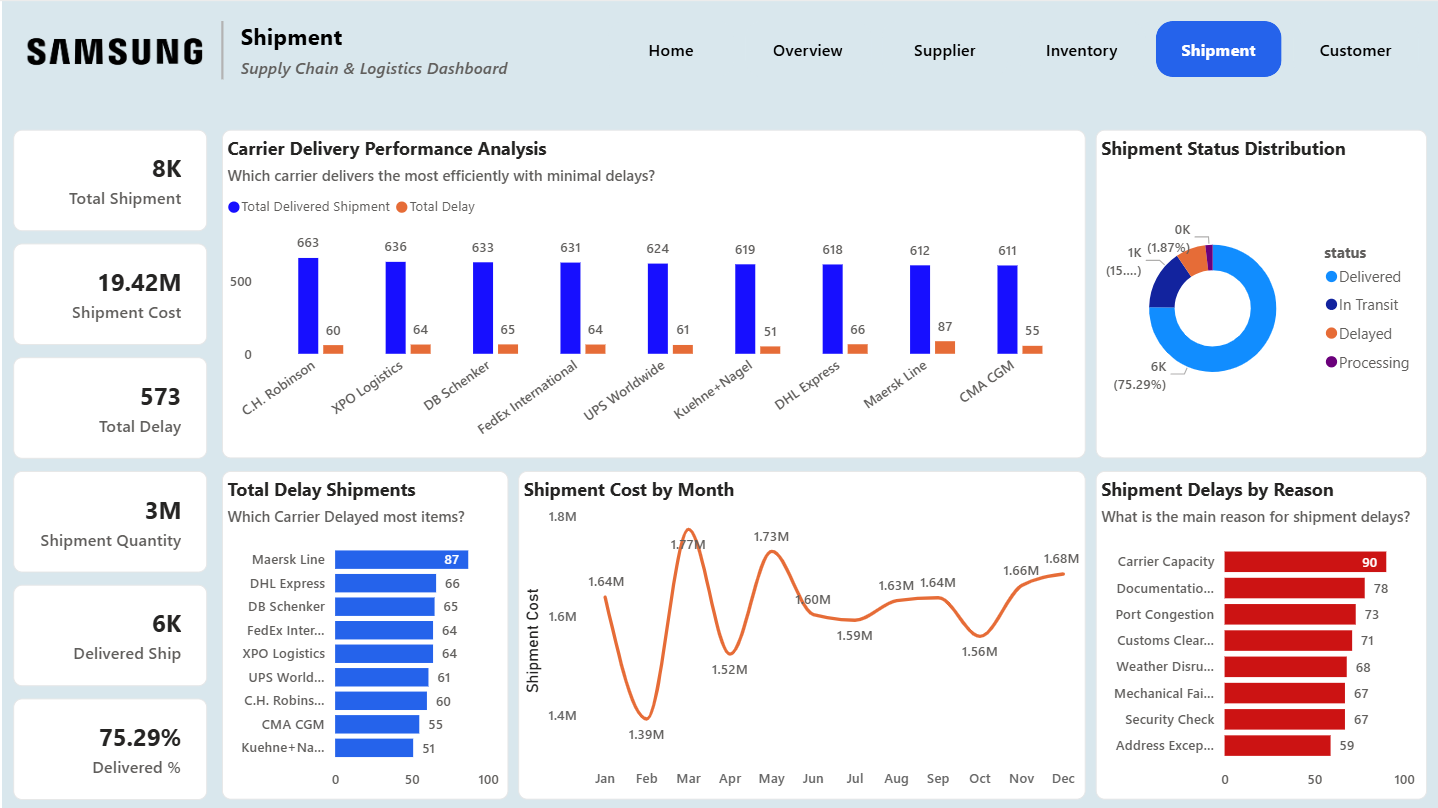

This screenshot's page, from the dashboard's own definition file:
{"tool":"powerbi","page":{"name":"Shipment","canvas":[1280,720],"ordinal":4},"visuals":[{"type":"shape","title":"Shipment","box":[212.5,17.5,240,52.5],"z":0},{"type":"shape","box":[182.1,17.9,27.4,52.4],"z":1000},{"type":"image","box":[9.5,17.9,173.8,53.6],"z":2000},{"type":"cardVisual","fields":{"Data":["_Measures.Total Shipment Cost"]},"box":[10,216.2,172.5,90],"z":3000},{"type":"cardVisual","fields":{"Data":["_Measures.Total Delay"]},"box":[10,317.5,172.5,90],"z":4000},{"type":"cardVisual","fields":{"Data":["_Measures.Total Shipment Quantity"]},"box":[10,418.8,172.5,90],"z":5000},{"type":"cardVisual","fields":{"Data":["_Measures.Total Delivered Shipment"]},"box":[10,520,172.5,90],"z":6000},{"type":"cardVisual","fields":{"Data":["_Measures.Delivered %"]},"box":[10,621.2,172.5,90],"z":7000},{"type":"cardVisual","fields":{"Data":["_Measures.Total Shipment"]},"box":[10,115,172.5,90],"z":8000},{"type":"clusteredBarChart","title":"Total Delay Shipments","fields":{"Category":["fact_shipment.carrier"],"Y":["_Measures.Total Delay"]},"box":[196.6,418.3,255.3,292.4],"z":9000},{"type":"clusteredColumnChart","title":"Carrier Delivery Performance Analysis","fields":{"Category":["fact_shipment.carrier"],"Y":["_Measures.Total Delivered Shipment","_Measures.Total Delay"]},"box":[196.6,115.1,769.4,292.4],"z":10000},{"type":"lineChart","title":"Shipment Cost by Month","fields":{"Category":["dim_date.Month_Short"],"Y":["_Measures.Total Shipment Cost"]},"box":[460.2,418.3,505.8,292.4],"z":11000},{"type":"clusteredBarChart","title":"Shipment Delays by Reason","fields":{"Category":["fact_shipment.delay_reason"],"Y":["_Measures.Total Delay"]},"box":[974.4,418.3,294.8,292.4],"z":12000},{"type":"donutChart","title":"Shipment Status Distribution","fields":{"Category":["fact_shipment.status"],"Y":["_Measures.Total Shipment"]},"box":[974.4,115.1,294.8,292.4],"z":13000},{"type":"pageNavigator","box":[540,17.5,723.8,50],"z":13001}]}

Visuals, with their boxes in screenshot pixels (x1, y1, x2, y2), scaled from the page's 1280x720 canvas onto the 1438x808 screenshot:
"Shipment" shape: select_region(239, 20, 508, 79)
shape: select_region(205, 20, 235, 79)
image: select_region(11, 20, 206, 80)
cardVisual - _Measures.Total Shipment Cost: select_region(11, 243, 205, 344)
cardVisual - _Measures.Total Delay: select_region(11, 356, 205, 457)
cardVisual - _Measures.Total Shipment Quantity: select_region(11, 470, 205, 571)
cardVisual - _Measures.Total Delivered Shipment: select_region(11, 584, 205, 685)
cardVisual - _Measures.Delivered %: select_region(11, 697, 205, 798)
cardVisual - _Measures.Total Shipment: select_region(11, 129, 205, 230)
"Total Delay Shipments" clusteredBarChart: select_region(221, 469, 508, 798)
"Carrier Delivery Performance Analysis" clusteredColumnChart: select_region(221, 129, 1085, 457)
"Shipment Cost by Month" lineChart: select_region(517, 469, 1085, 798)
"Shipment Delays by Reason" clusteredBarChart: select_region(1095, 469, 1426, 798)
"Shipment Status Distribution" donutChart: select_region(1095, 129, 1426, 457)
pageNavigator: select_region(607, 20, 1420, 76)
